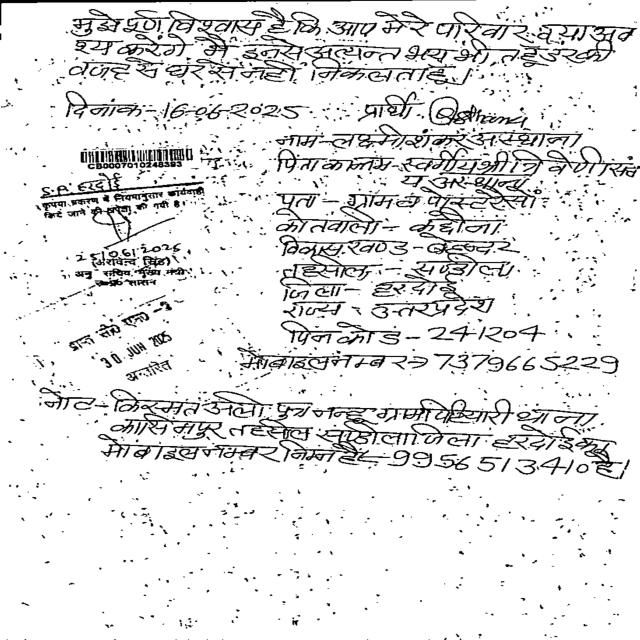antritgovtstamp: (61, 301, 201, 383)
barcode: (73, 140, 204, 176)
